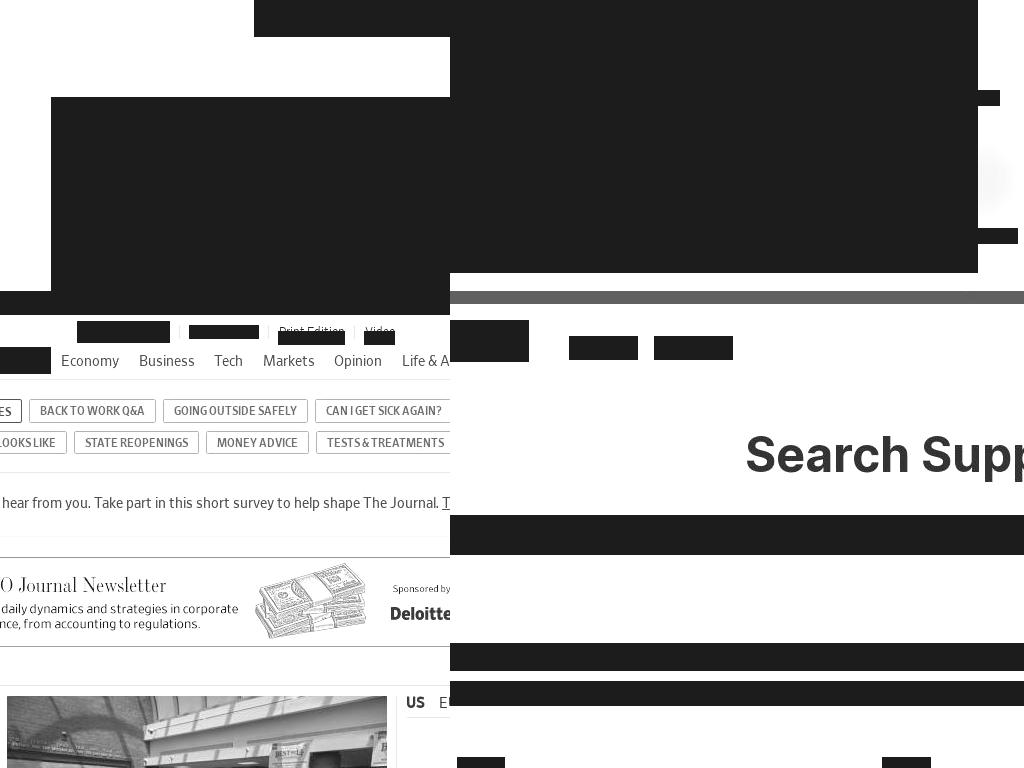button: (51, 97, 326, 291), (7, 696, 387, 768), (0, 291, 450, 315), (163, 399, 308, 423), (450, 320, 529, 362), (315, 399, 450, 423), (316, 431, 450, 454), (29, 399, 156, 423), (74, 431, 199, 454), (206, 431, 309, 454), (52, 347, 128, 374), (77, 321, 170, 343), (129, 347, 204, 374), (254, 347, 324, 374), (325, 347, 392, 374), (0, 431, 67, 454), (393, 347, 450, 374), (0, 347, 51, 374), (205, 347, 253, 374), (0, 399, 22, 423)
field: (450, 515, 1024, 555)
heading: (450, 427, 1024, 483), (450, 643, 1024, 671)
iframe: (450, 0, 978, 273), (0, 557, 450, 647)
image: (51, 97, 325, 291), (7, 696, 387, 768), (450, 320, 529, 362), (816, 228, 889, 244), (817, 90, 888, 106), (948, 228, 1018, 244), (636, 6, 669, 39), (567, 90, 620, 106), (567, 228, 620, 244), (699, 228, 747, 244), (702, 90, 743, 106), (450, 90, 489, 106), (965, 90, 1000, 106), (882, 757, 931, 768), (457, 757, 505, 768), (450, 228, 482, 244)
link: (654, 336, 733, 360), (569, 336, 638, 360), (278, 331, 345, 345), (364, 331, 395, 345)
text: (450, 681, 1024, 706), (0, 647, 450, 665), (254, 0, 450, 37), (0, 497, 442, 511), (189, 325, 259, 339), (77, 326, 158, 338), (406, 696, 425, 712), (438, 696, 450, 712)
